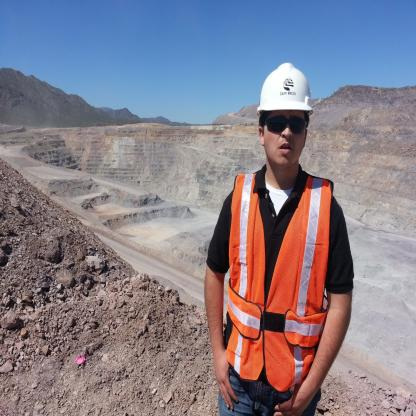person: (193, 46, 355, 416)
